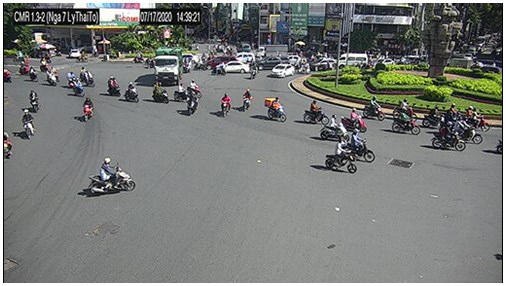xe_hoi: (215, 61, 250, 75), (309, 57, 337, 72), (270, 63, 294, 79), (230, 52, 254, 68)
xe_may: (88, 157, 138, 195), (341, 128, 374, 163), (324, 138, 357, 173), (430, 121, 466, 153), (317, 114, 349, 142), (390, 109, 420, 137), (452, 117, 482, 145), (461, 105, 490, 131), (339, 108, 367, 132), (303, 100, 329, 125), (392, 97, 418, 122), (361, 95, 384, 123), (262, 97, 287, 122), (421, 104, 448, 127), (445, 102, 468, 123), (151, 79, 169, 104), (22, 108, 35, 140), (186, 90, 199, 116), (106, 75, 121, 97), (219, 93, 232, 118), (173, 83, 190, 102), (186, 79, 203, 98), (123, 82, 138, 103), (82, 96, 94, 122), (210, 61, 227, 76), (72, 77, 84, 98), (29, 88, 39, 113), (65, 69, 78, 88), (241, 89, 251, 112), (83, 69, 95, 88), (247, 60, 259, 79), (45, 69, 57, 87), (131, 51, 145, 64), (76, 50, 88, 63), (27, 65, 36, 82), (39, 56, 48, 72), (3, 68, 11, 83)
xe_tai: (152, 45, 182, 85), (257, 43, 289, 59)
